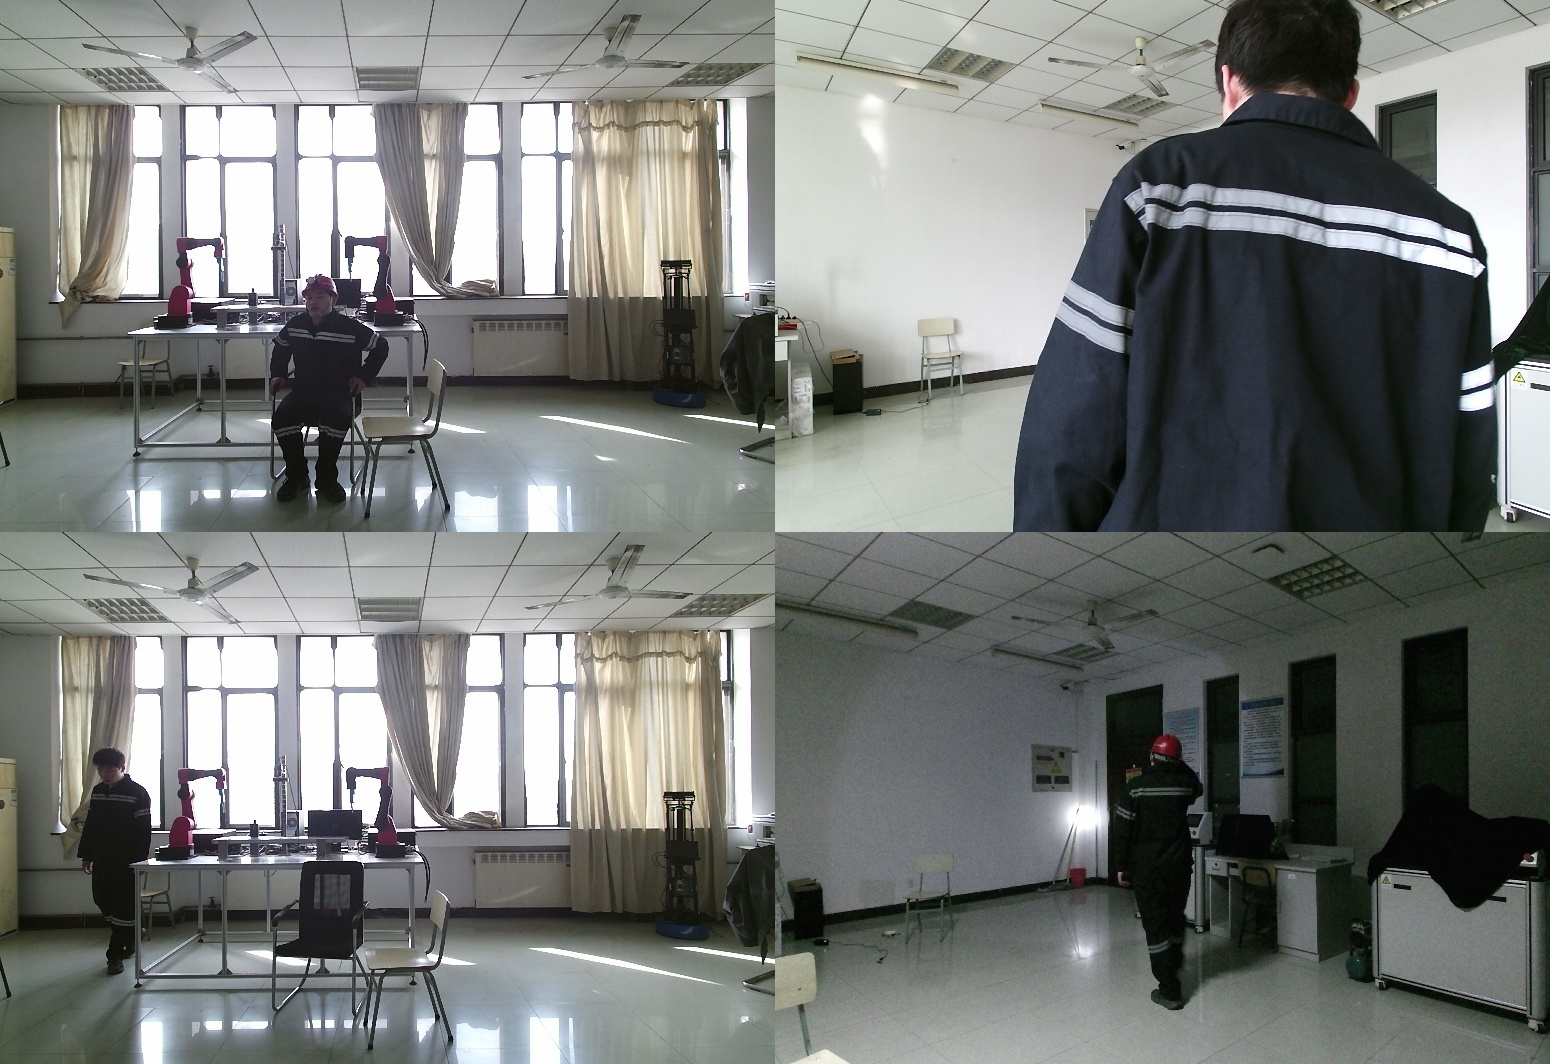person: (1014, 2, 1497, 532), (268, 276, 395, 503), (1113, 731, 1215, 1008), (77, 748, 151, 975)
